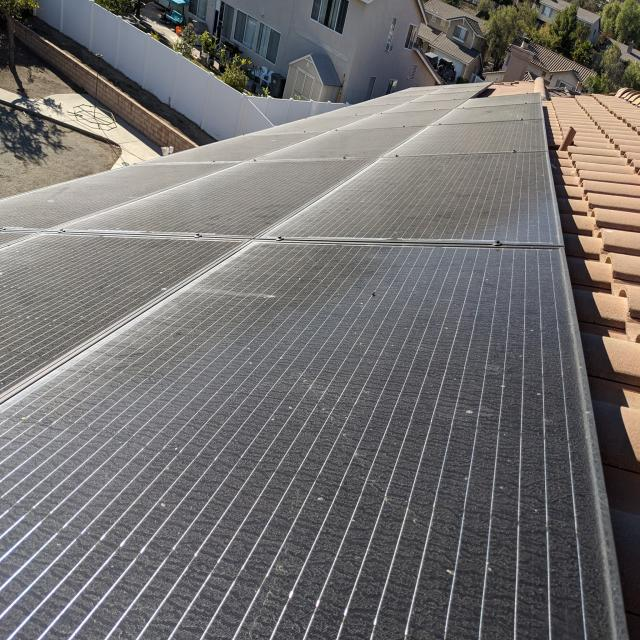dust-solar-panel: (0, 83, 629, 640)
